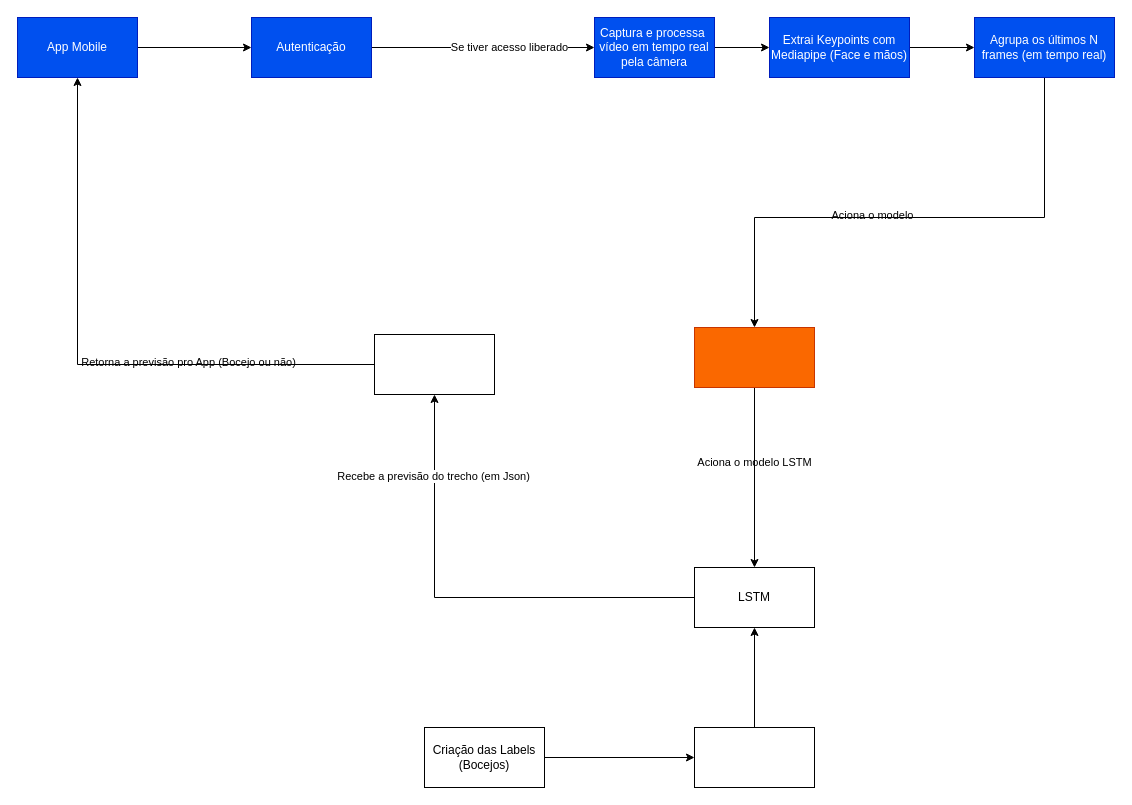
Some shapes in this 1132 by 805 pixel diagram are drawn without their labels. Here are the shapes that lost their labels. From the top down, the centre of each, then its label:
the point at 434,364: Classificação do trecho (N frames)
the point at 754,357: Modelo .ONNX
the point at 754,757: Treinamento do Modelo (sequencial)
